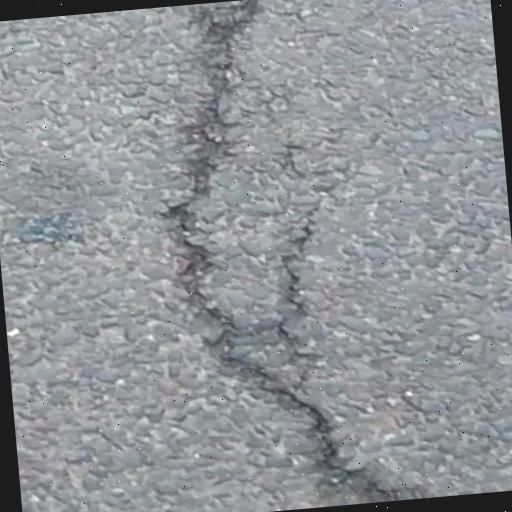spalling: (163, 1, 405, 503)
